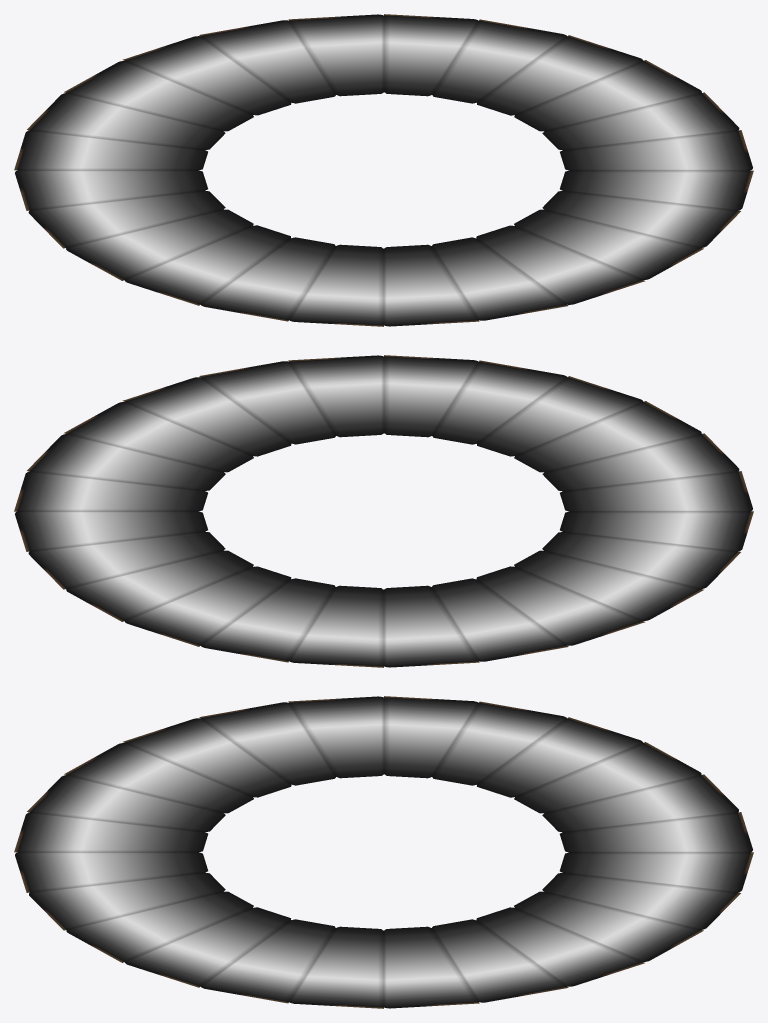
The picture shows the model from 3 angles, top to bottom: view 1: azimuth 30°, elevation 25°; view 2: azimuth 150°, elevation 25°; view 3: azimuth 270°, elevation 25°; orthographic projection.
Parts seen in each view (by area): view 1: T1L3M003_29; view 2: T1L3M003_29; view 3: T1L3M003_29.
Part boxes in pixels (x1=…): T1L3M003_29: x1=14, y1=14, x2=753, y2=326; T1L3M003_29: x1=14, y1=355, x2=753, y2=667; T1L3M003_29: x1=14, y1=696, x2=753, y2=1008.
Size of the model in its own units: 3.43 by 0 by 3.43.
1 material, 1 textured.
